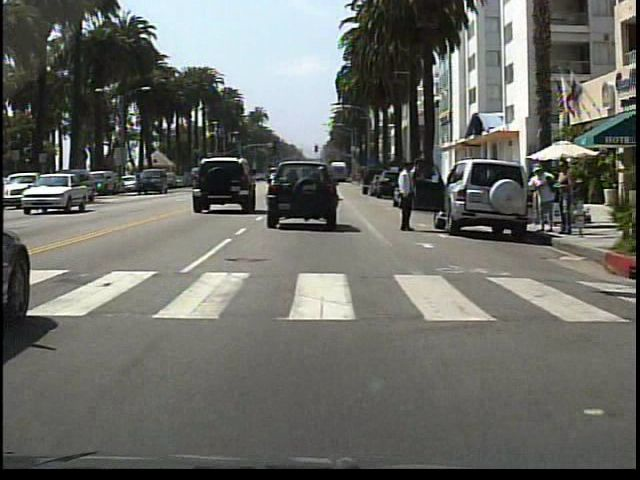person: (393, 156, 424, 238), (527, 161, 556, 240), (555, 159, 576, 241)
